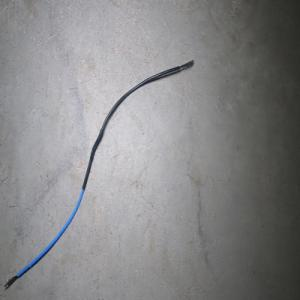Wire: (3, 59, 193, 289)
